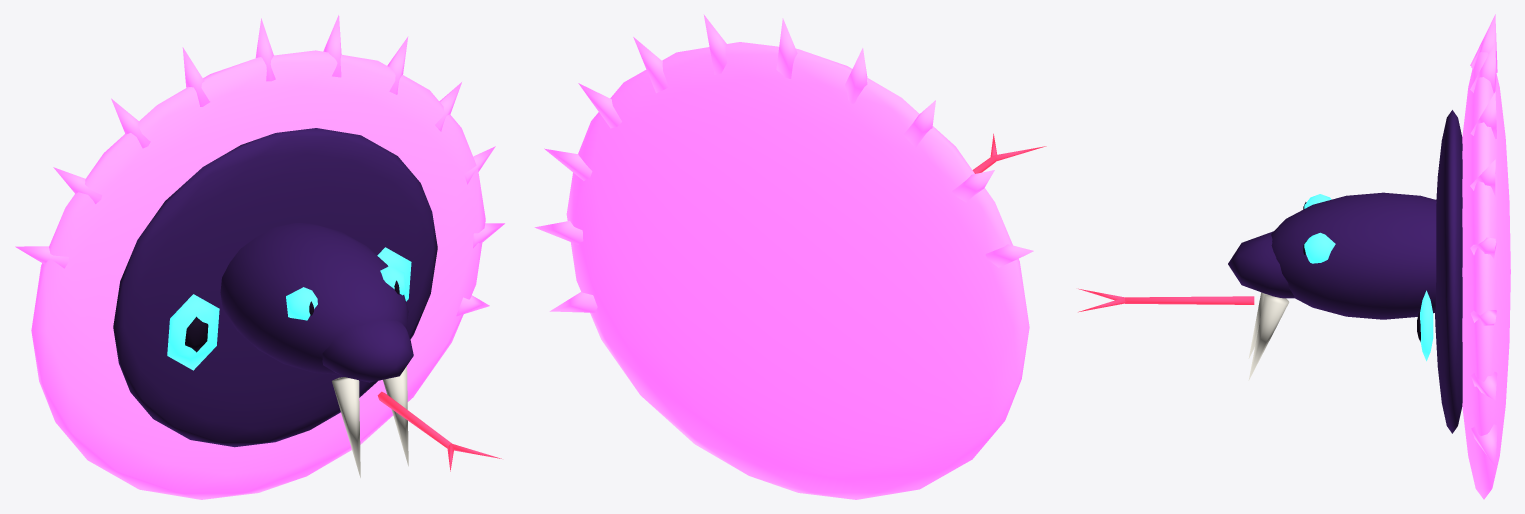
Rendered from boss_serpent_head.glb.
3 views of the same model, side by side, from view 1: azimuth 30°, elevation 25°; view 2: azimuth 150°, elevation 25°; view 3: azimuth 270°, elevation 25° (orthographic). The views are drawn at different scales.
Visible parts, largest first — view 1: Icosphere; view 2: Icosphere; view 3: Icosphere.
Boxes of the visible parts, x1,y1,x2,y2 form: Icosphere: (15, 15, 504, 499); Icosphere: (534, 14, 1046, 499); Icosphere: (1078, 14, 1510, 499).
Bounding box in the file's own units: 1.84 × 1.68 × 1.51.
